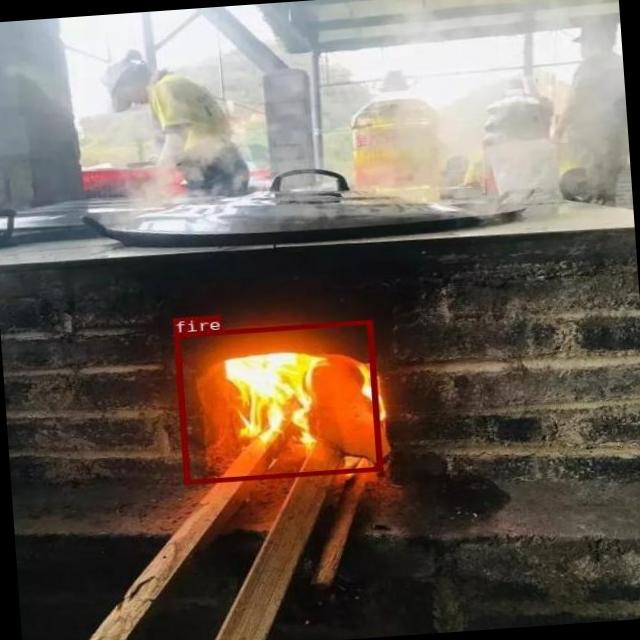fire: (172, 318, 382, 483)
